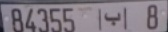3: (37, 7, 49, 32)
4: (25, 8, 37, 32)
5: (62, 7, 76, 32), (49, 7, 61, 32)
8: (11, 8, 24, 32), (147, 4, 158, 29)
b: (103, 11, 122, 27)
